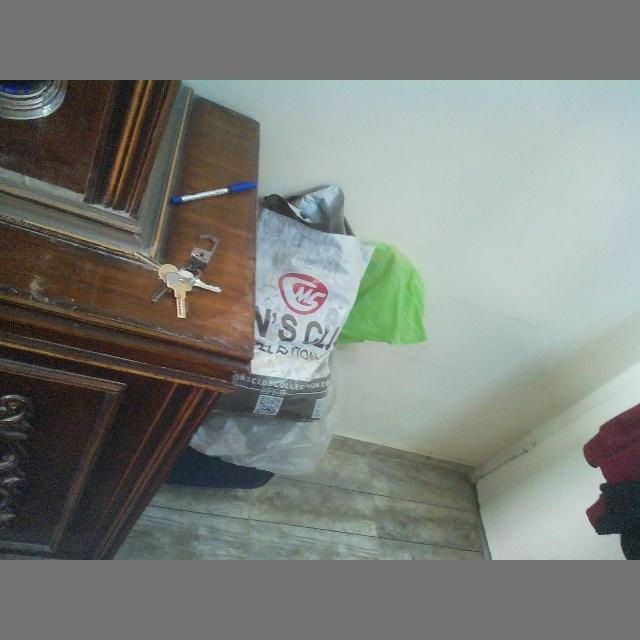Keys: (125, 220, 235, 324)
